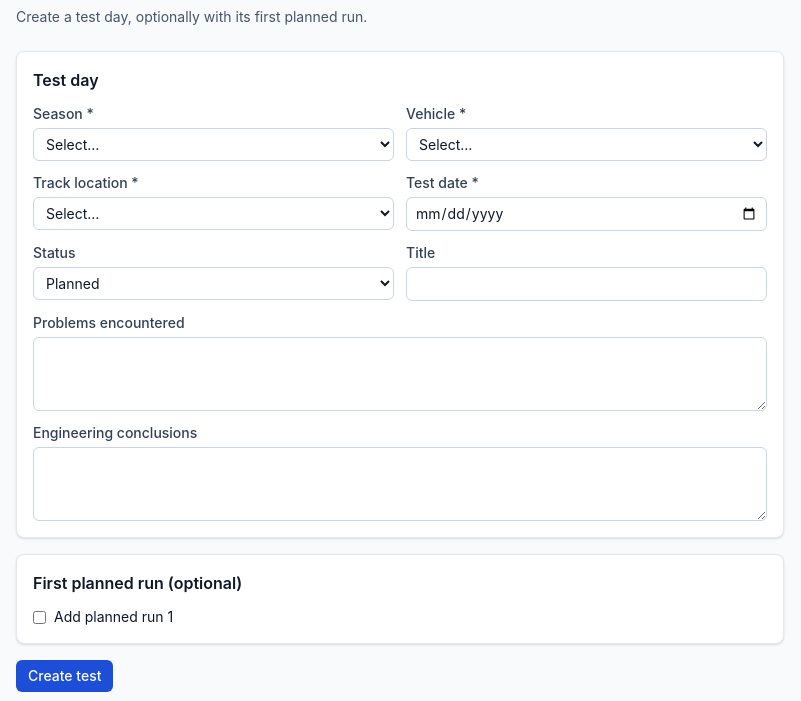
Test case: create test › validates required fields on the client without sending
This screenshot has width=801, height=701.
(page scrolled)
Click the button "Create test" at (65, 676), box [16,660,114,692]
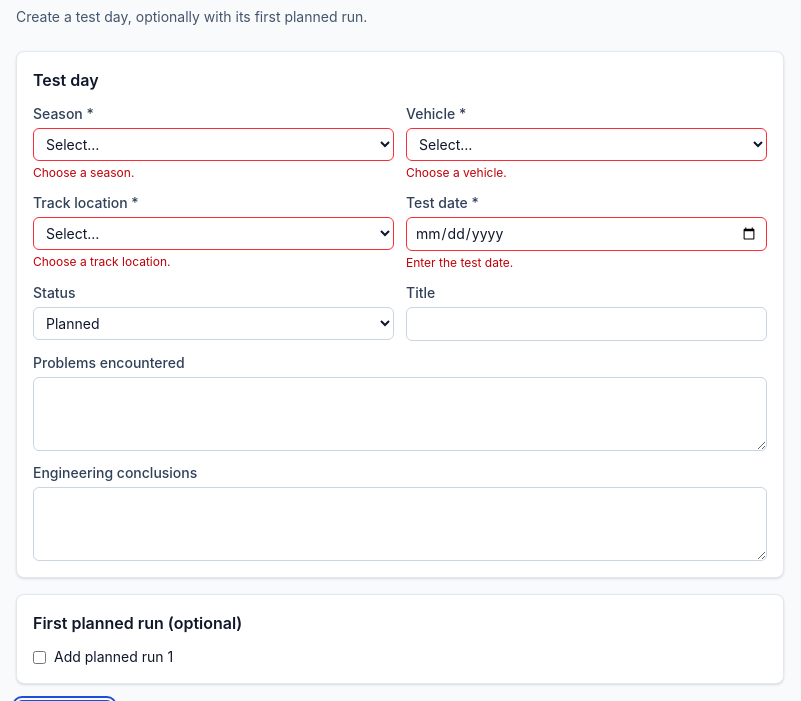
Now the text "Choose a season." is shown, box [33,165,134,180]
